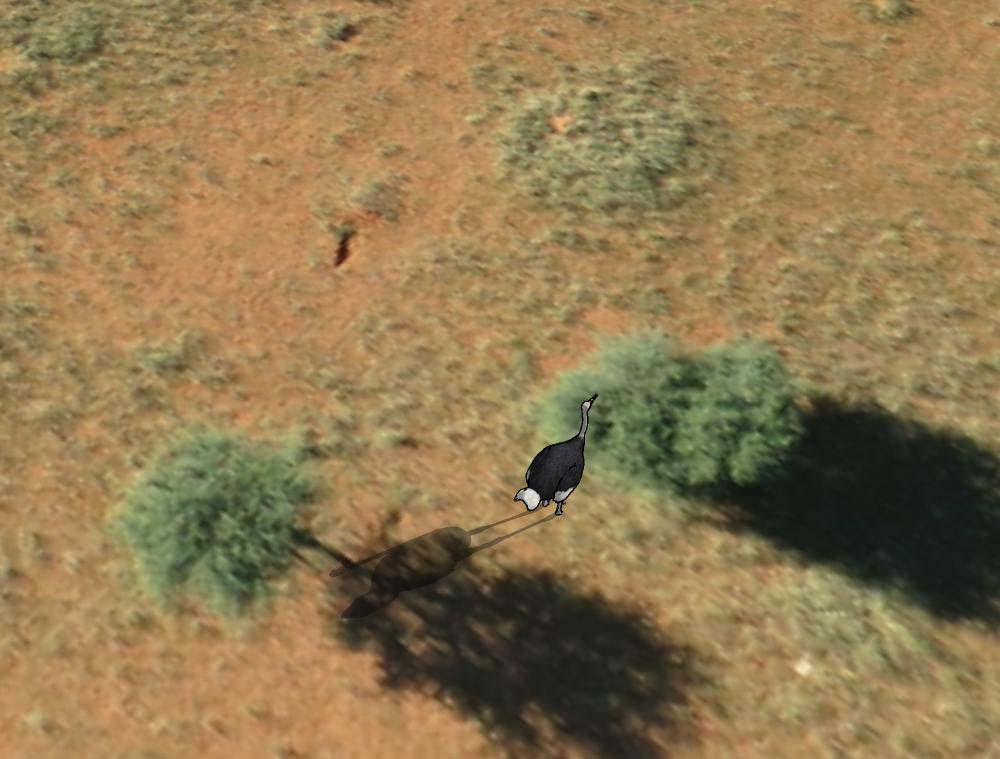springbok: (512, 393, 604, 518)
